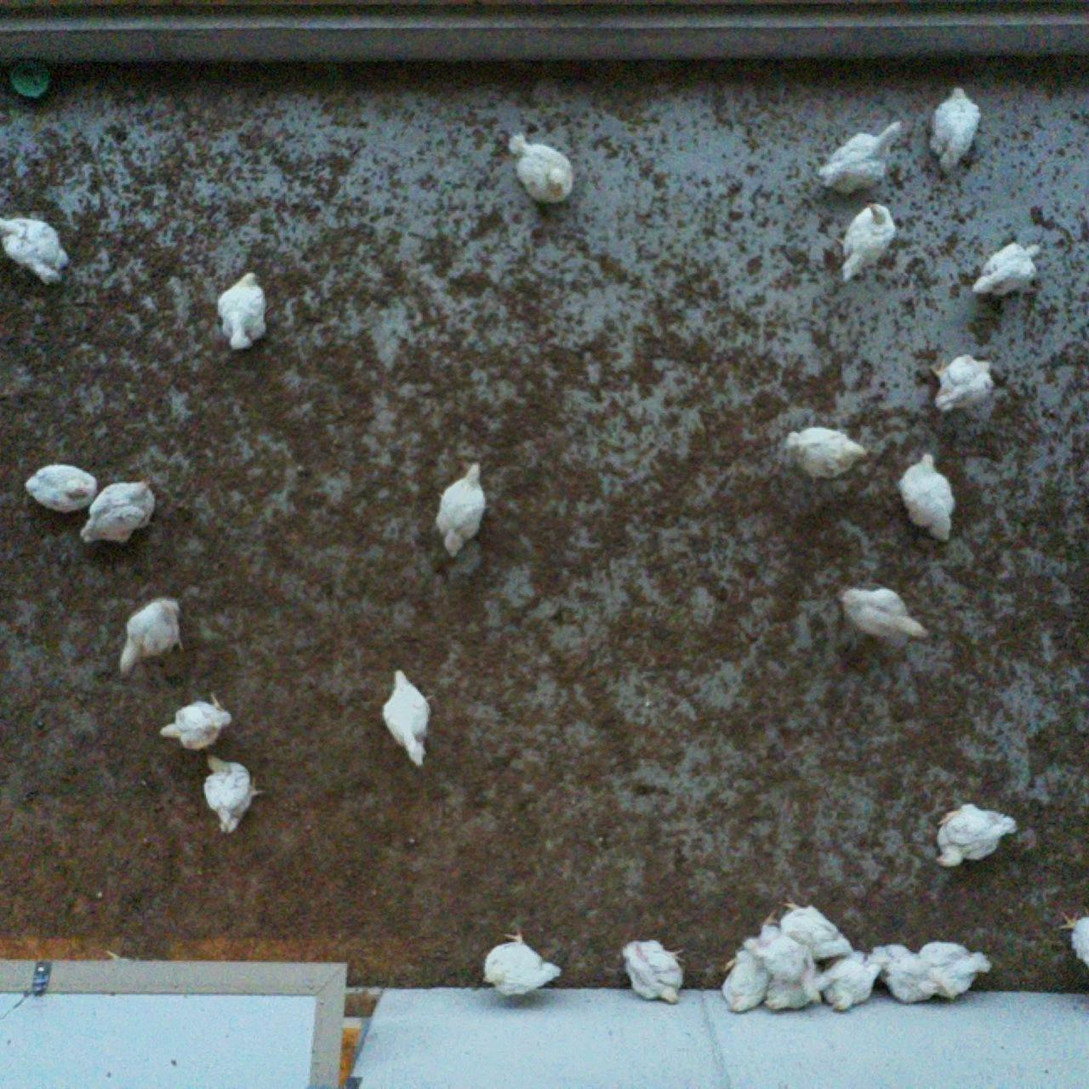chicken: (832, 578, 933, 661), (811, 117, 908, 202), (739, 905, 821, 994), (928, 797, 1023, 873), (114, 592, 191, 684), (474, 924, 568, 997), (74, 473, 163, 550), (376, 666, 440, 773), (893, 447, 958, 551), (432, 459, 495, 565), (196, 748, 266, 841), (775, 889, 860, 961), (921, 82, 984, 179), (0, 212, 77, 291), (503, 131, 577, 213), (780, 423, 869, 491), (615, 934, 692, 1010), (916, 933, 994, 1006), (835, 198, 898, 288), (151, 689, 233, 757), (863, 938, 943, 1007), (966, 240, 1048, 305), (213, 269, 275, 354), (923, 352, 998, 422), (20, 458, 101, 519), (814, 944, 881, 1013), (714, 939, 772, 1018), (763, 955, 827, 1013), (1053, 900, 1089, 972)
